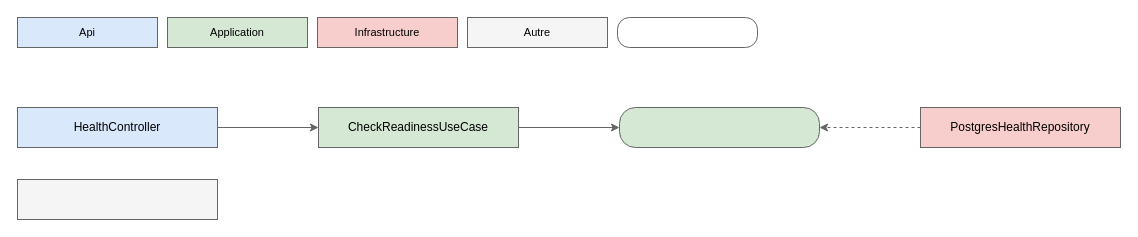
This 1138x237 diagram has some shape labels left out. The centre of each missing label's shape, as x and y in pixels:
HealthModule: (117,199)
IHealthRepository: (719,127)
Port (interface): (687,32)
